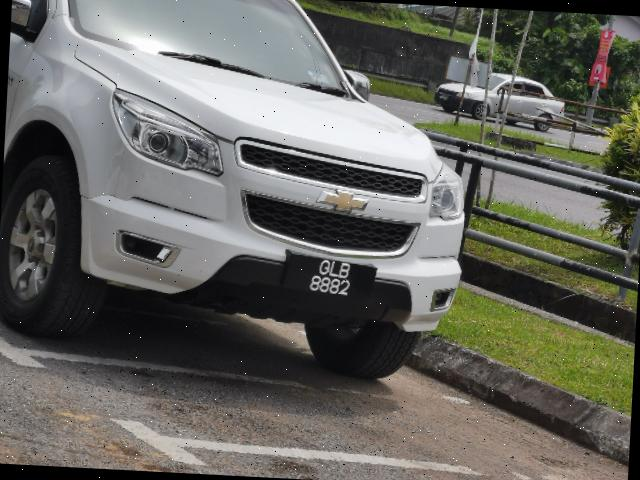License_Plate: (288, 253, 378, 303)
car: (1, 1, 485, 398)
